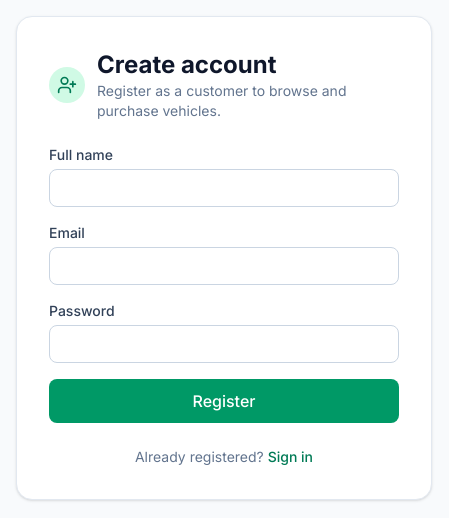
Scenario: Registration page › disables registration while the request is pending
Type "Test User" into the field labelled "Full name".
click(224, 188); type("Test User")  # box [49,169,399,207]
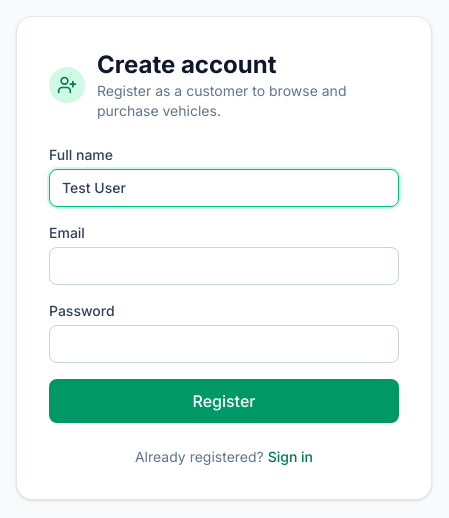
Type "test@example.com" into the field labelled "Email".
click(224, 266); type("test@example.com")  # box [49,247,399,285]
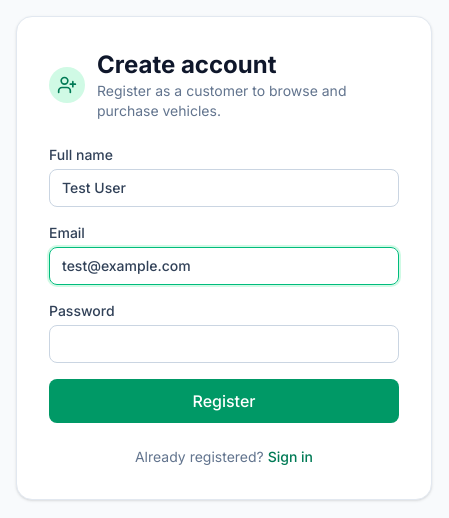
Type "Password123" into the password field labelled "Password".
click(224, 344); type("Password123")  # box [49,325,399,363]
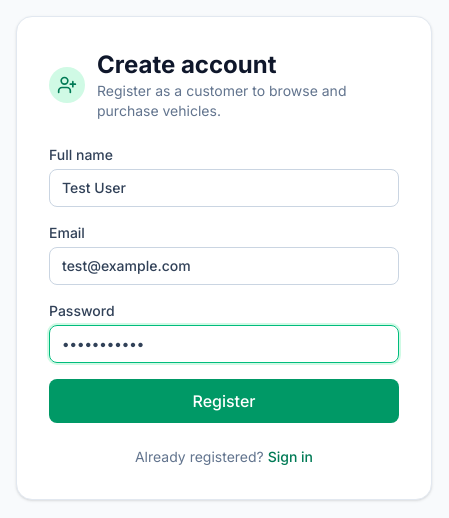
Click the button "Register".
click(224, 401)  # box [49,379,399,423]
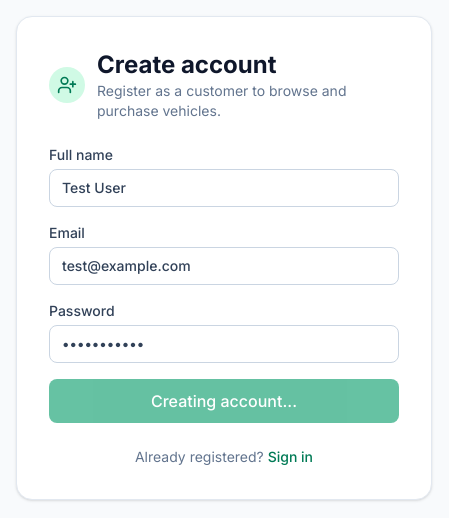
expect the button "Creating account..." is disabled: met, box [49,379,399,423]
